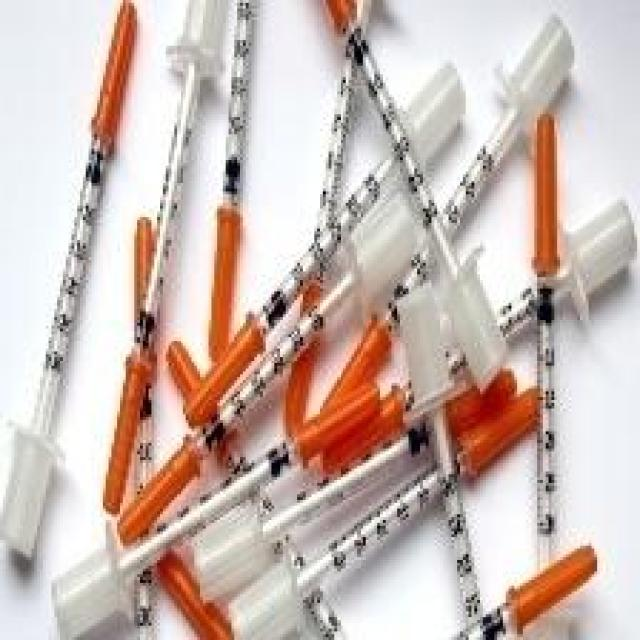syringe: (40, 13, 598, 636)
